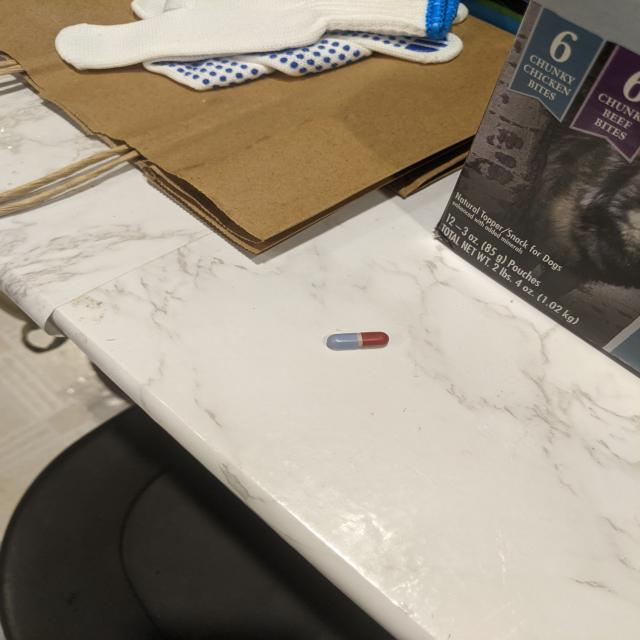non-organic waste: (326, 330, 390, 350)
